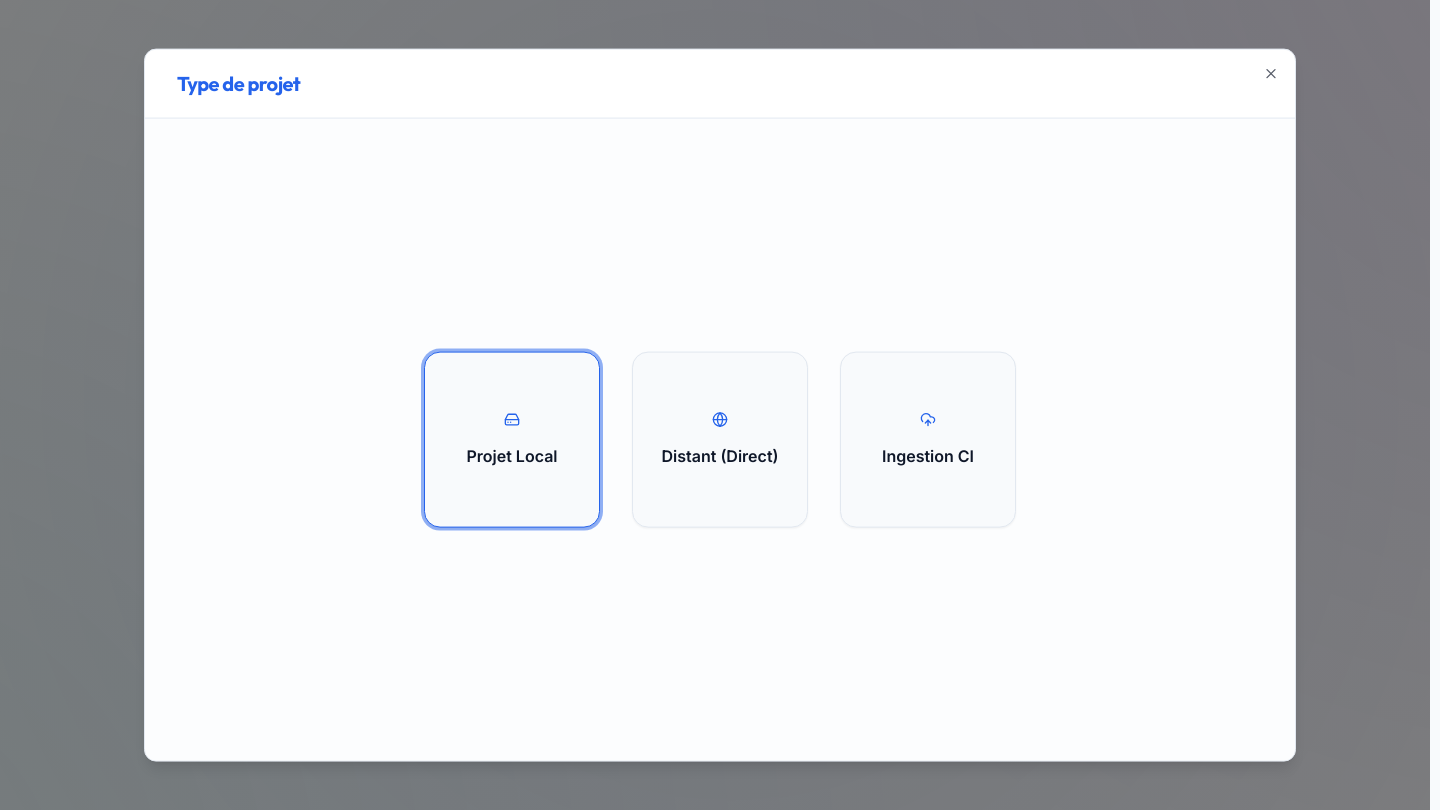
Test case: ProjectEditDialog › une erreur API lors de la création est affichée dans le formulaire
Click the button "Projet Local" at (512, 440), box [424, 352, 600, 528]
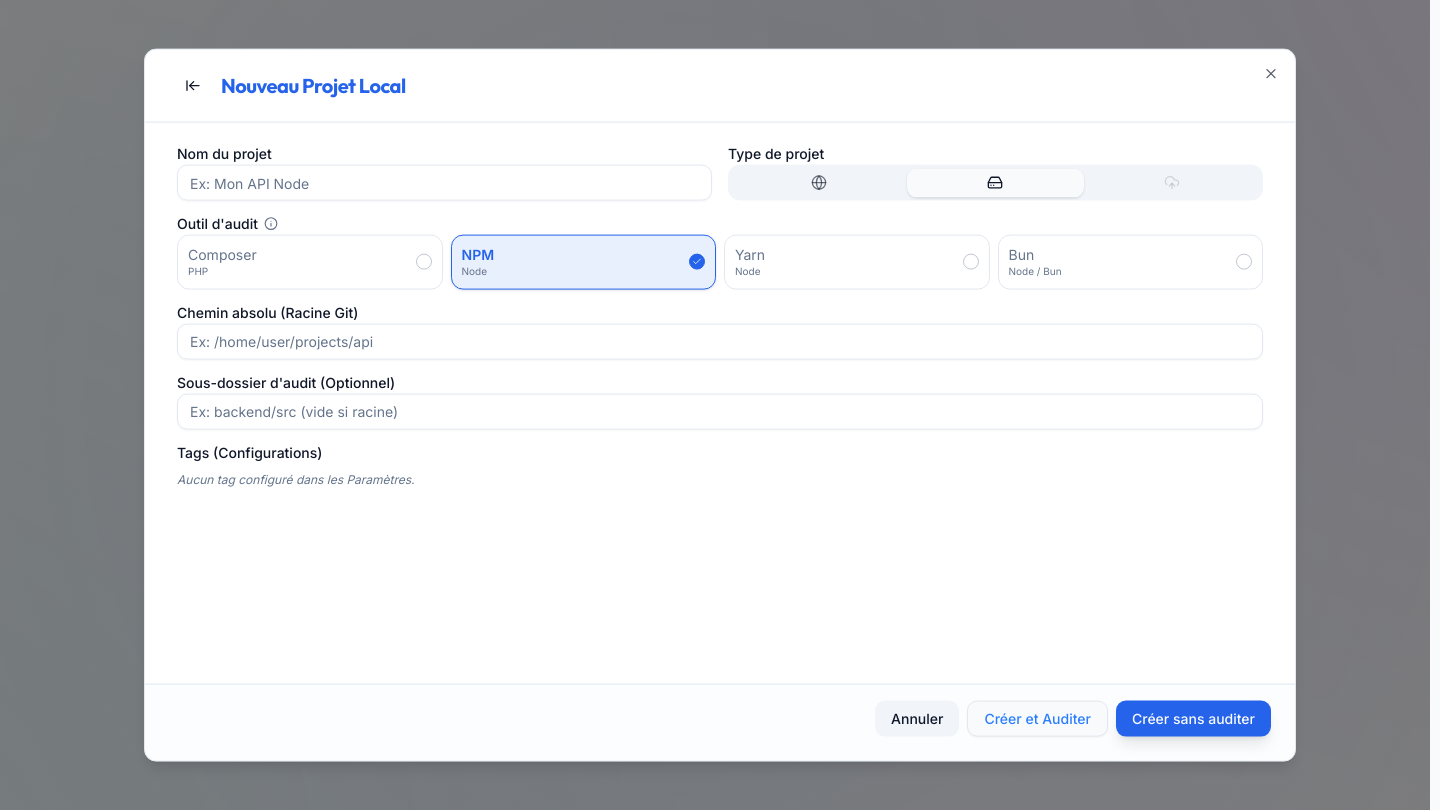
Type "Projet Invalide" into the field labelled "Nom du projet" at (444, 183), box [177, 165, 712, 201]
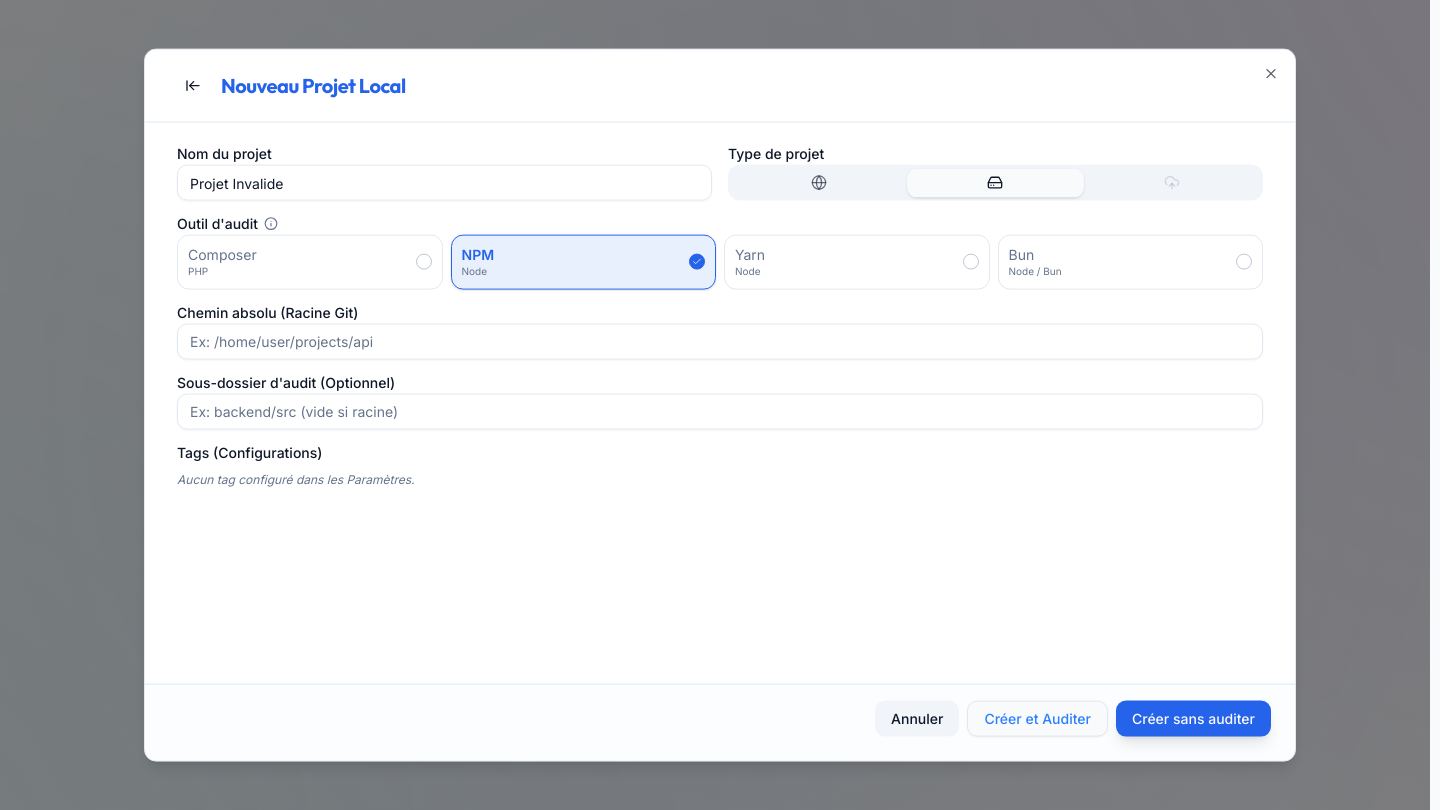
Type "/invalid" into the field labelled "Chemin absolu (Racine Git)" at (720, 341), box [177, 323, 1263, 359]
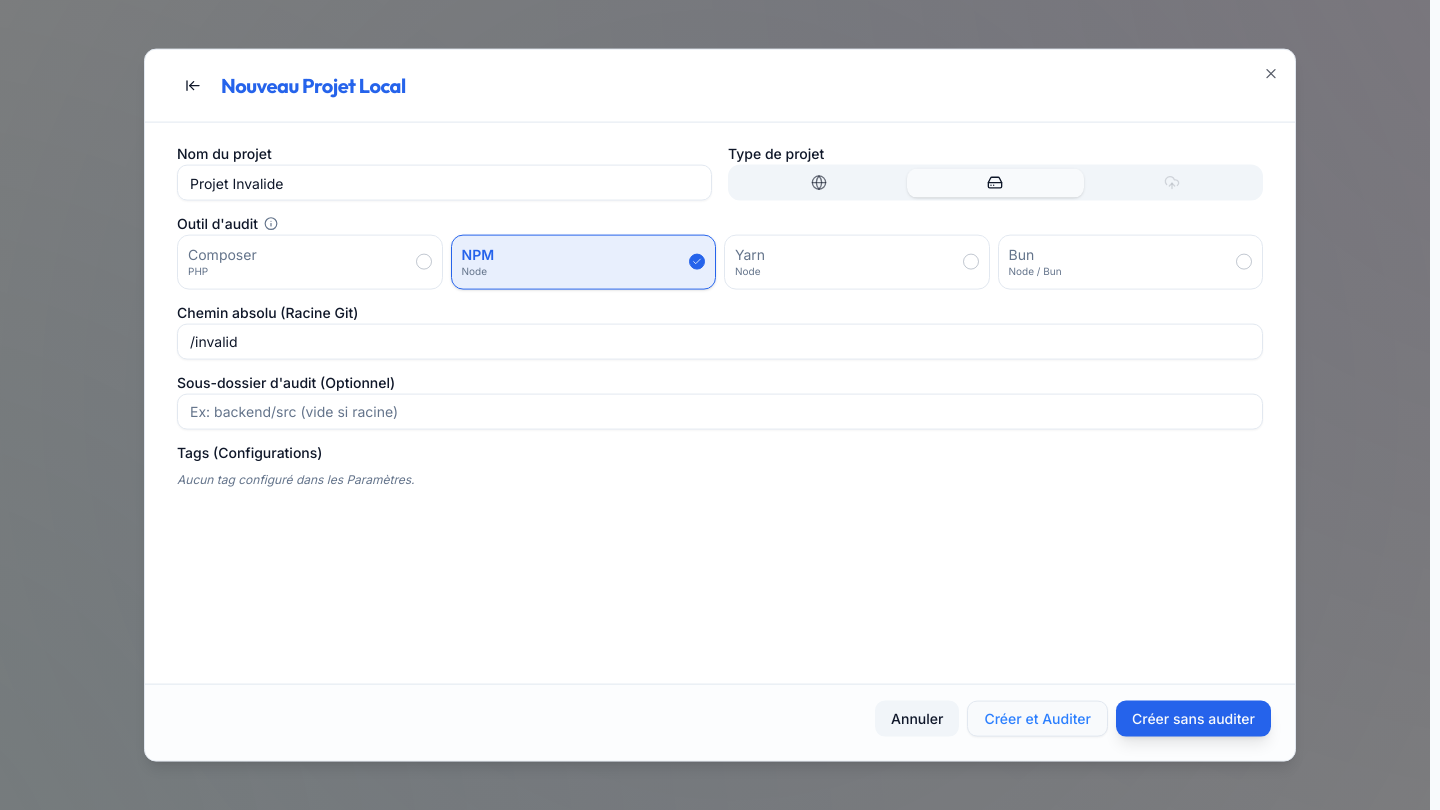
Click the button "Créer sans auditer" at (1194, 718), box [1116, 700, 1271, 736]
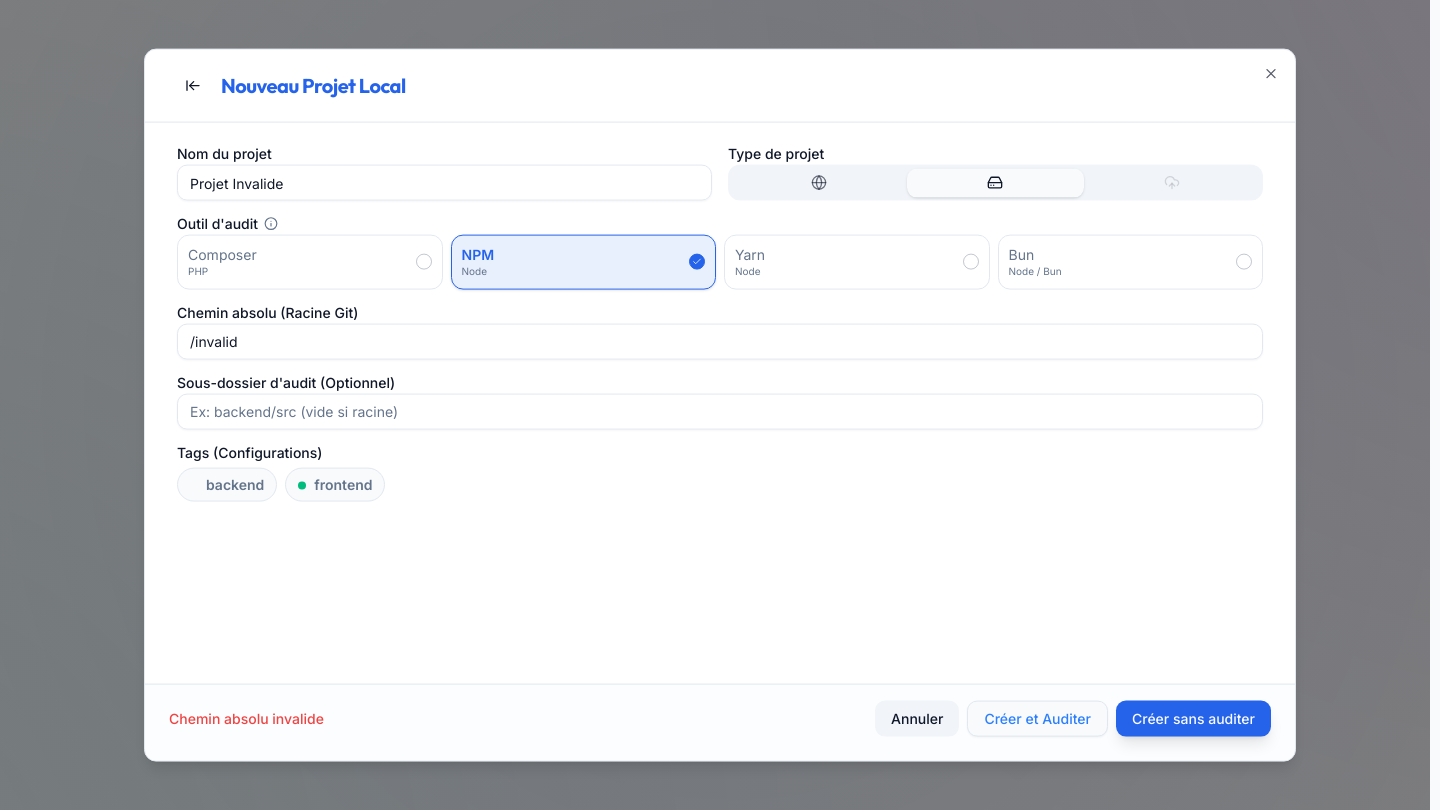
Expected: the message reads "Chemin absolu invalide", [169, 709, 324, 726]
